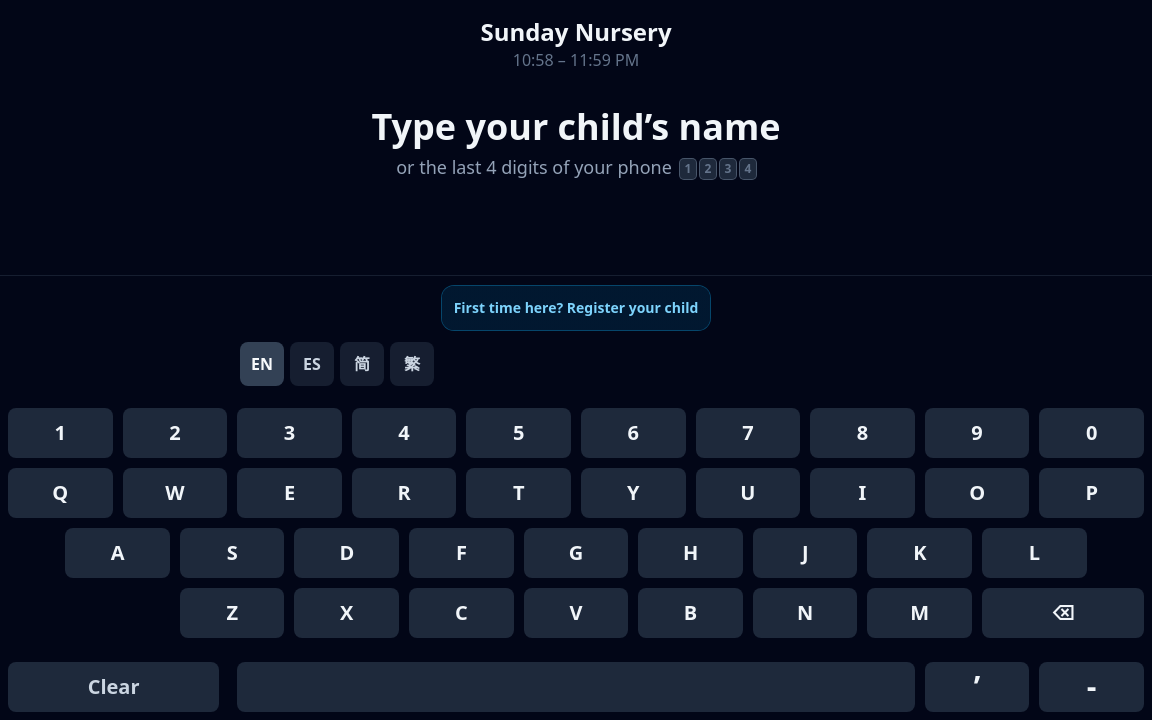
Test case: saying which room this kiosk checks into › names the room under the child, in place of their grade
Press the mouse on the button "0": (1092, 433) [1039, 408, 1144, 458]
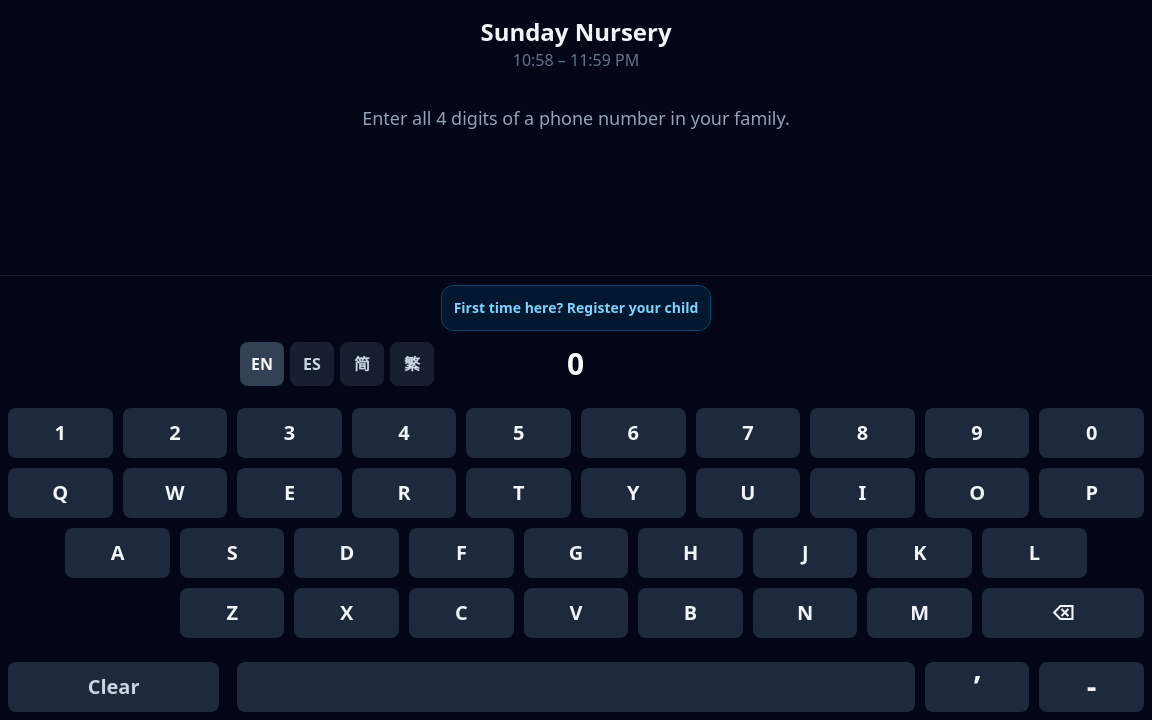
Press the mouse on the button "1": (60, 433) [8, 408, 113, 458]
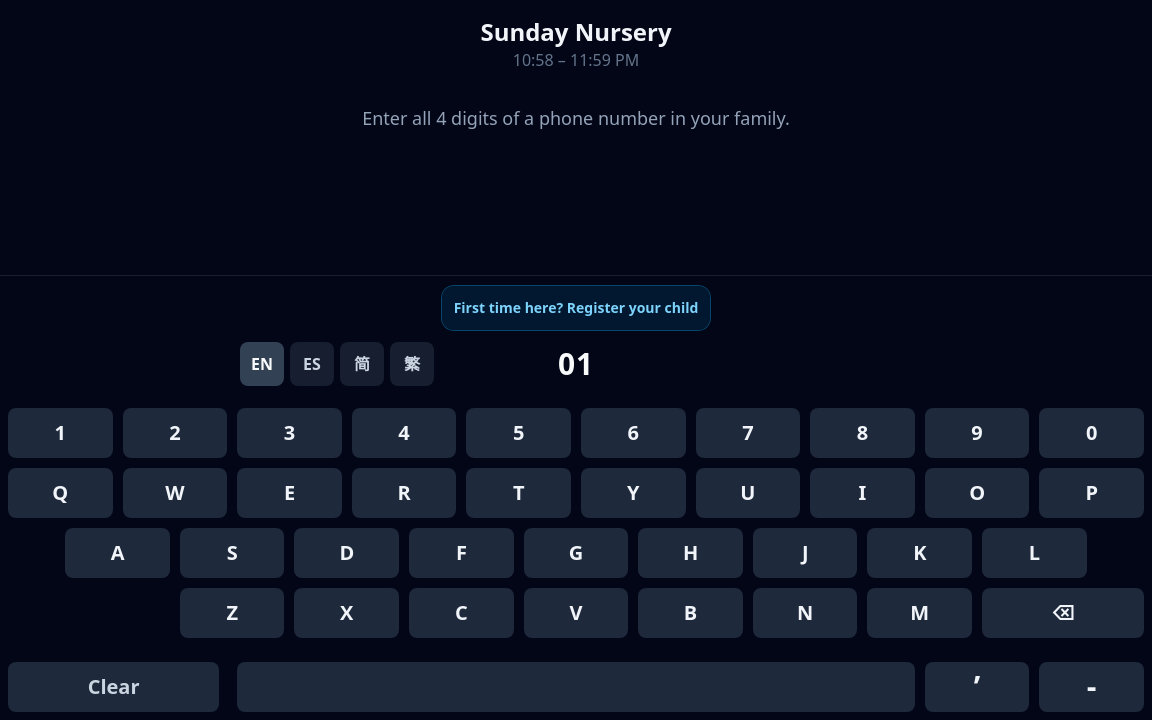
Press the mouse on the button "3": (290, 433) [237, 408, 342, 458]
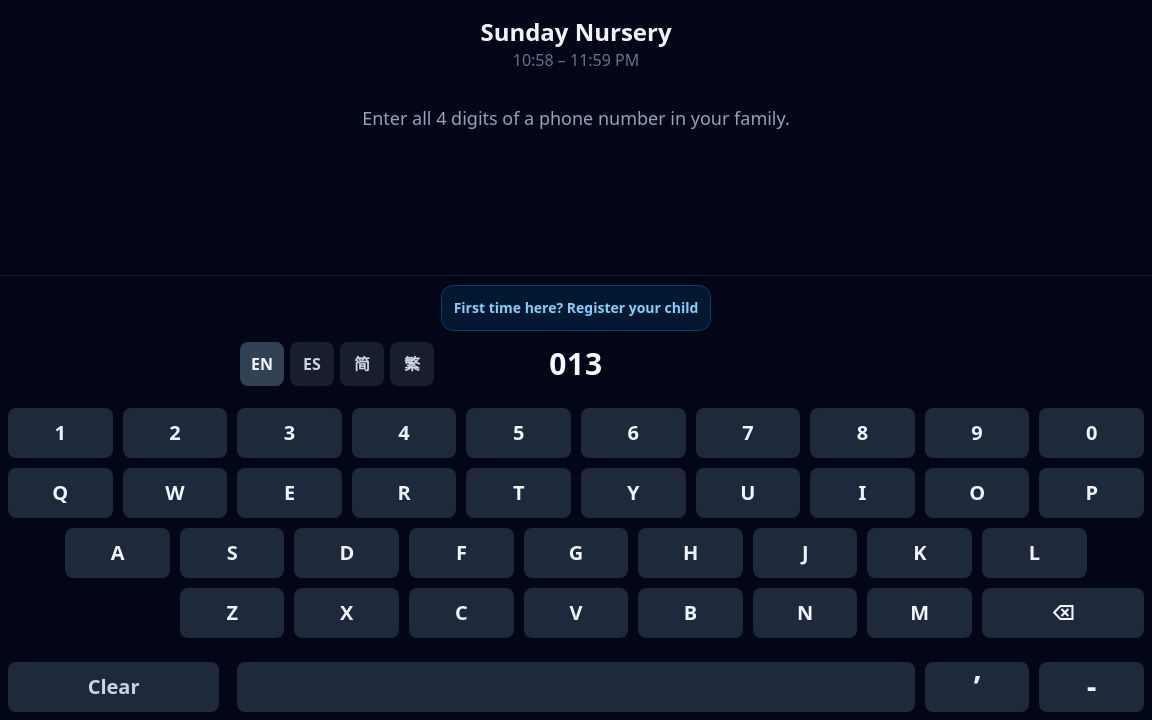
Press the mouse on the button "4": (404, 433) [352, 408, 456, 458]
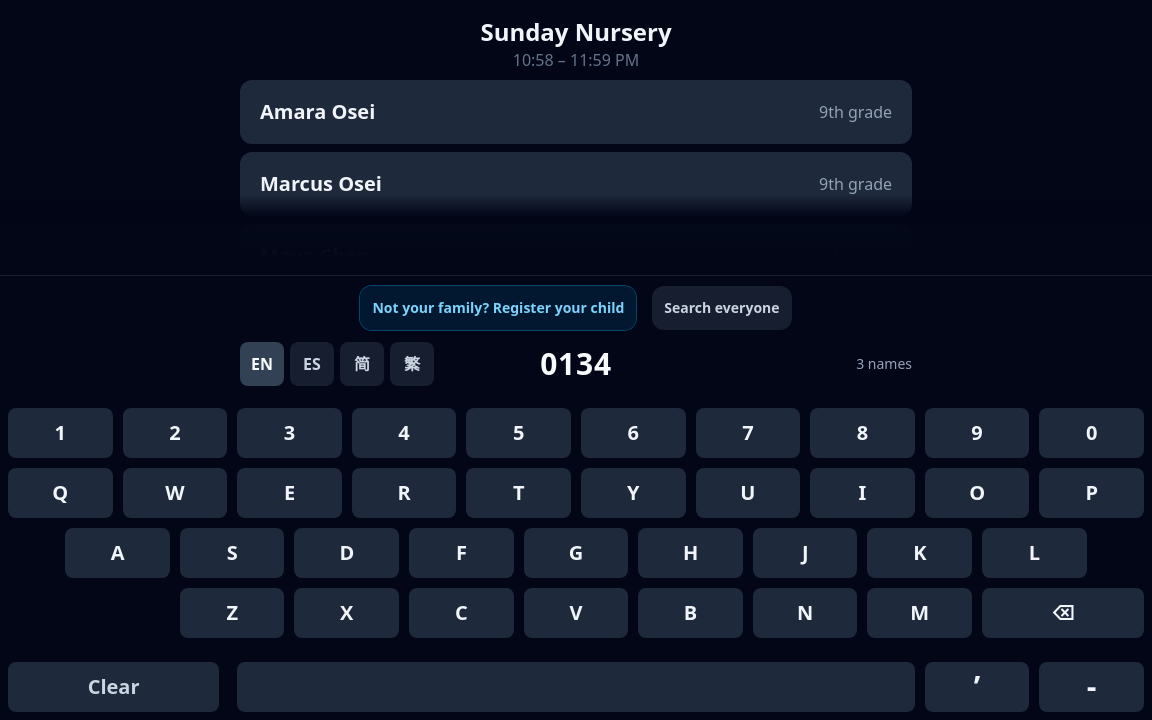
Press the mouse on the button "Marcus Osei 9th grade": (296, 184) [240, 152, 912, 216]
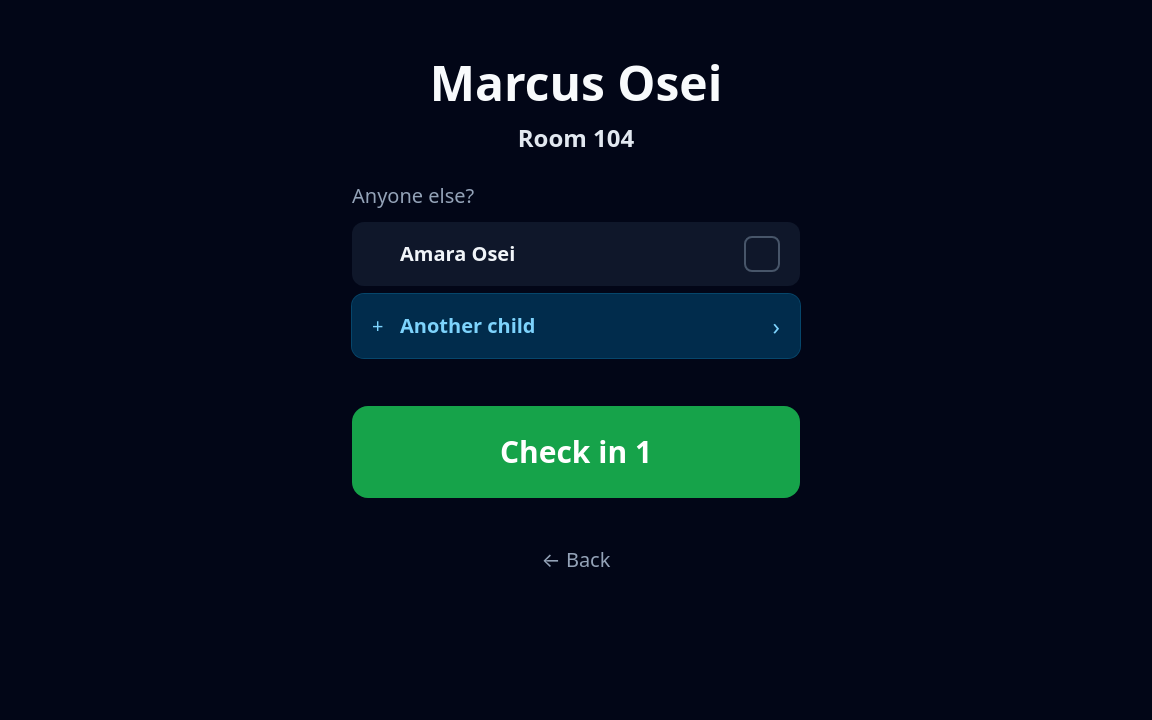
expect the text "Room 104" is shown: met, box [518, 121, 634, 154]
expect the button "grade" is gone: met
